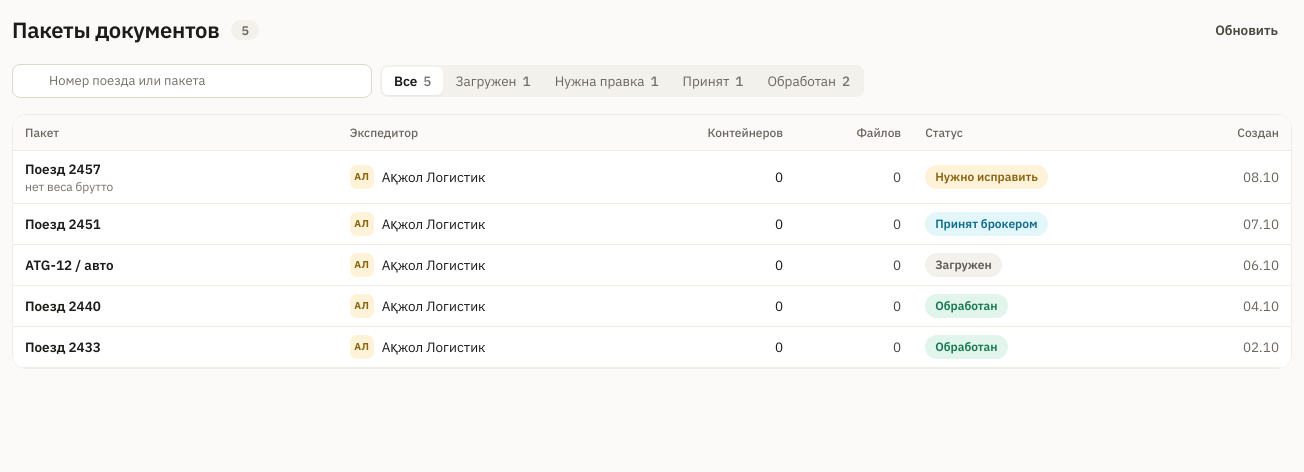
Scenario: PackagesView: панель пакета › клик по строке открывает панель и перечитывает пакет; строка подсвечена
Click the row "Поезд 2451 АЛ Ақжол Логистик 0 0 Принят брокером 07.10".
click(652, 224)  # box [13,204,1291,245]
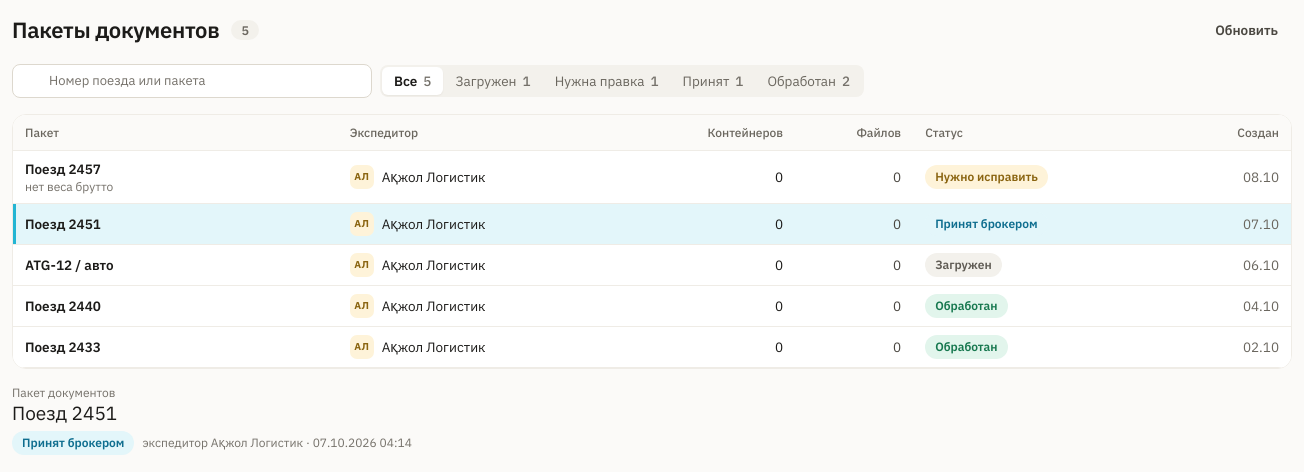
Expected: the text "Поезд 2451" is shown, [12,401,117,425]
